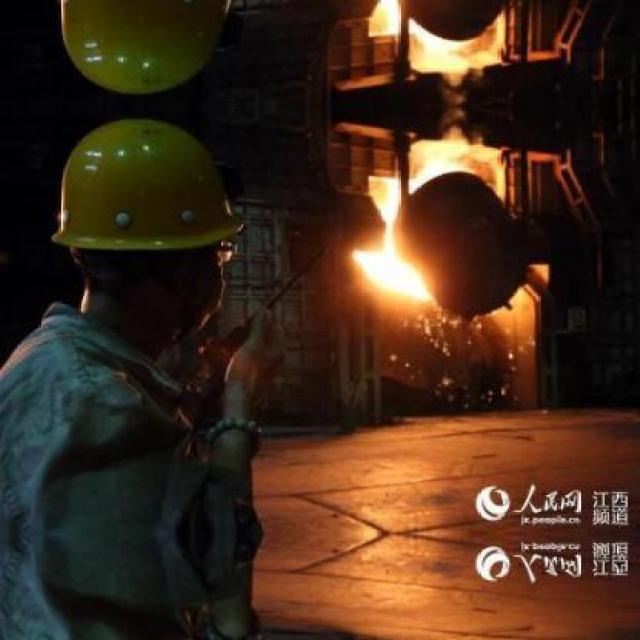hard-hat: (51, 117, 245, 251)
person: (1, 116, 285, 639)
